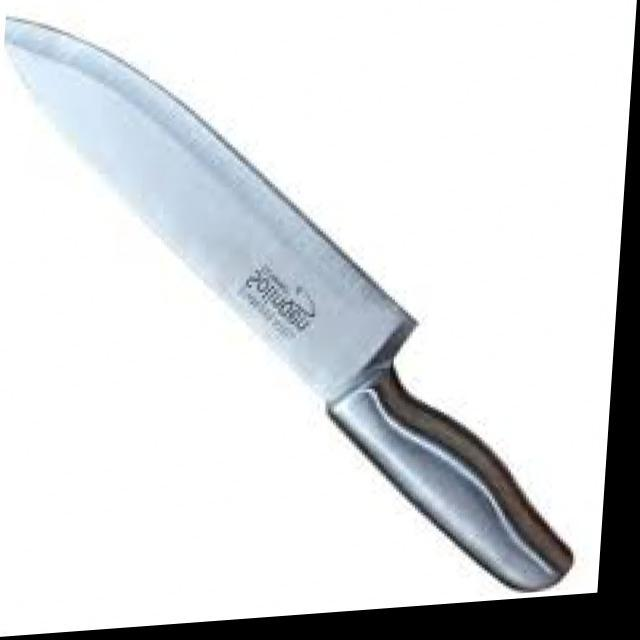knife: (0, 11, 575, 596)
